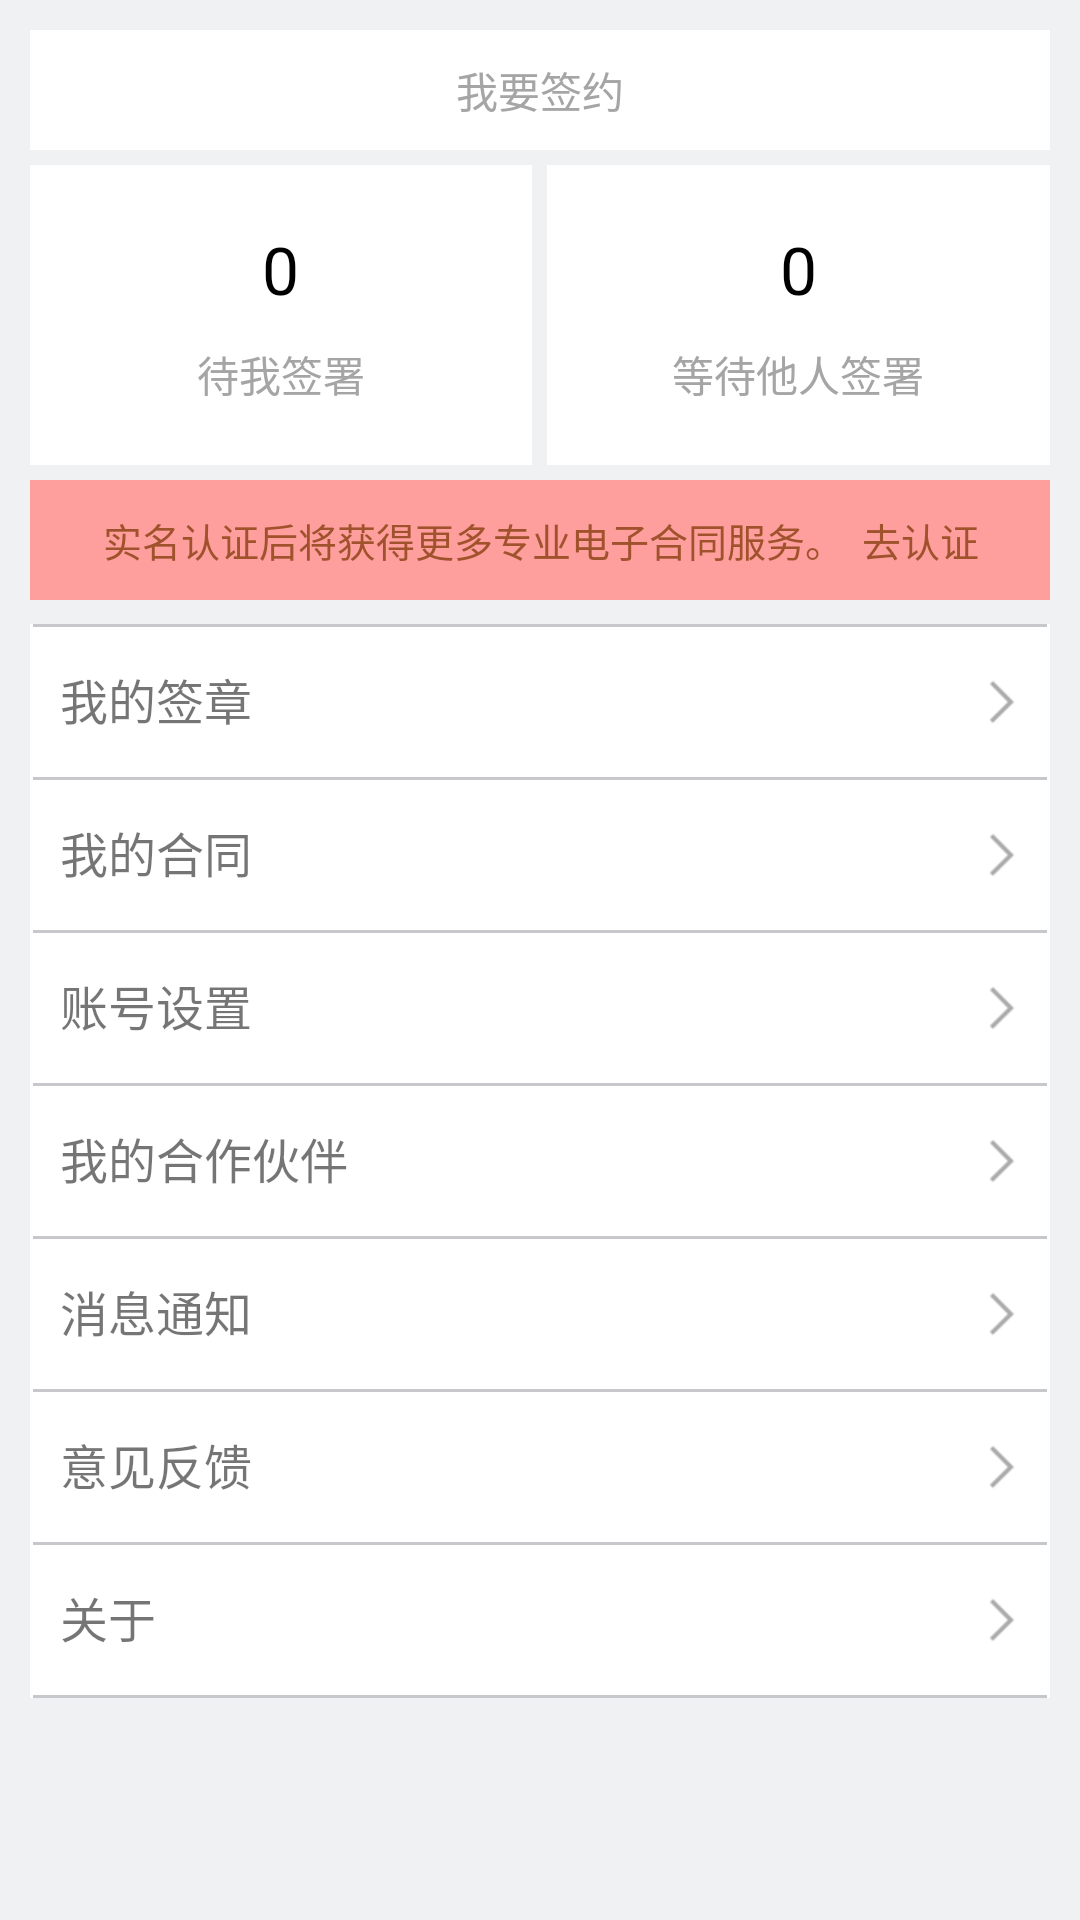

Locate icon controls on the screen. Image size 1080x1920, boxes as [x1=x1, y1=y1, x2=x2, y2=y2].
arrow right: [x1=990, y1=681, x2=1014, y2=723], [x1=990, y1=834, x2=1014, y2=876], [x1=990, y1=987, x2=1014, y2=1029], [x1=990, y1=1140, x2=1014, y2=1182], [x1=990, y1=1293, x2=1014, y2=1335], [x1=990, y1=1446, x2=1014, y2=1488], [x1=990, y1=1599, x2=1014, y2=1641]
